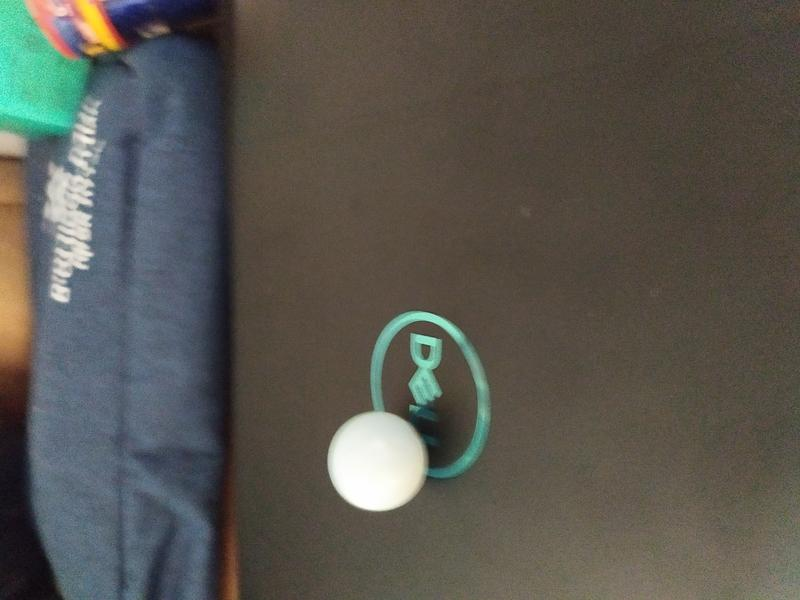Warning: (323, 409, 432, 515)
